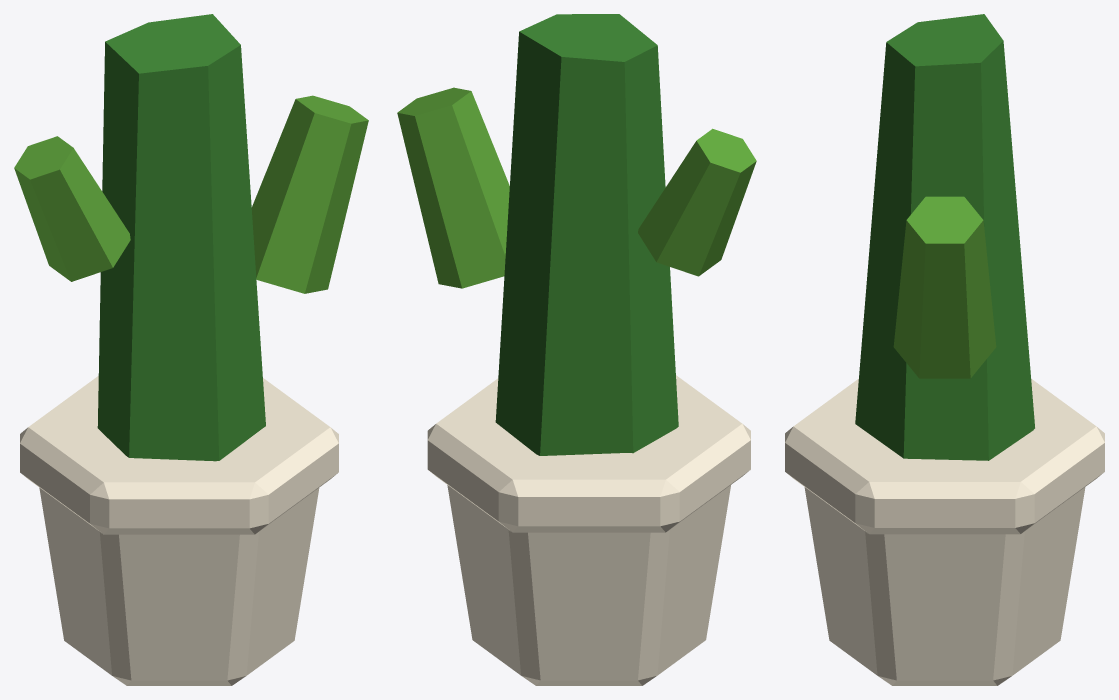
Rendered from plant_cactus.glb.
3 renders of one model, left to right at view 1: azimuth 30°, elevation 25°; view 2: azimuth 150°, elevation 25°; view 3: azimuth 270°, elevation 25°, orthographic.
Parts seen in each view (by area): view 1: plant_cactus; view 2: plant_cactus; view 3: plant_cactus.
Boxes of the visible parts, x1=… form: plant_cactus: x1=14, y1=14, x2=368, y2=685; plant_cactus: x1=397, y1=14, x2=756, y2=685; plant_cactus: x1=785, y1=14, x2=1104, y2=685.
Bounding box in the file's own units: 0.3042 × 0.5241 × 0.2492.
